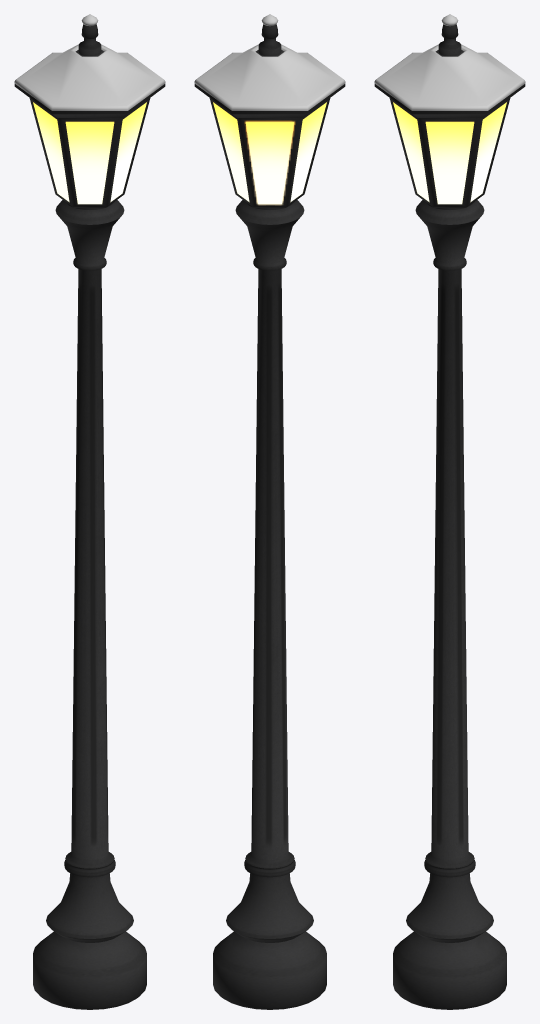
The model's file is street_lamp_exterior.fbx.
3 views of the same model, side by side, from view 1: azimuth 30°, elevation 25°; view 2: azimuth 150°, elevation 25°; view 3: azimuth 270°, elevation 25° (orthographic).
Parts seen in each view (by area): view 1: street lamp exterior; view 2: street lamp exterior; view 3: street lamp exterior.
Boxes of the visible parts, box(x1,y1,x2,y2) form: street lamp exterior: box(14, 14, 165, 1009); street lamp exterior: box(194, 14, 345, 1009); street lamp exterior: box(374, 14, 525, 1009).
Bounding box in the file's own units: 58.92 × 483 × 68.03.
